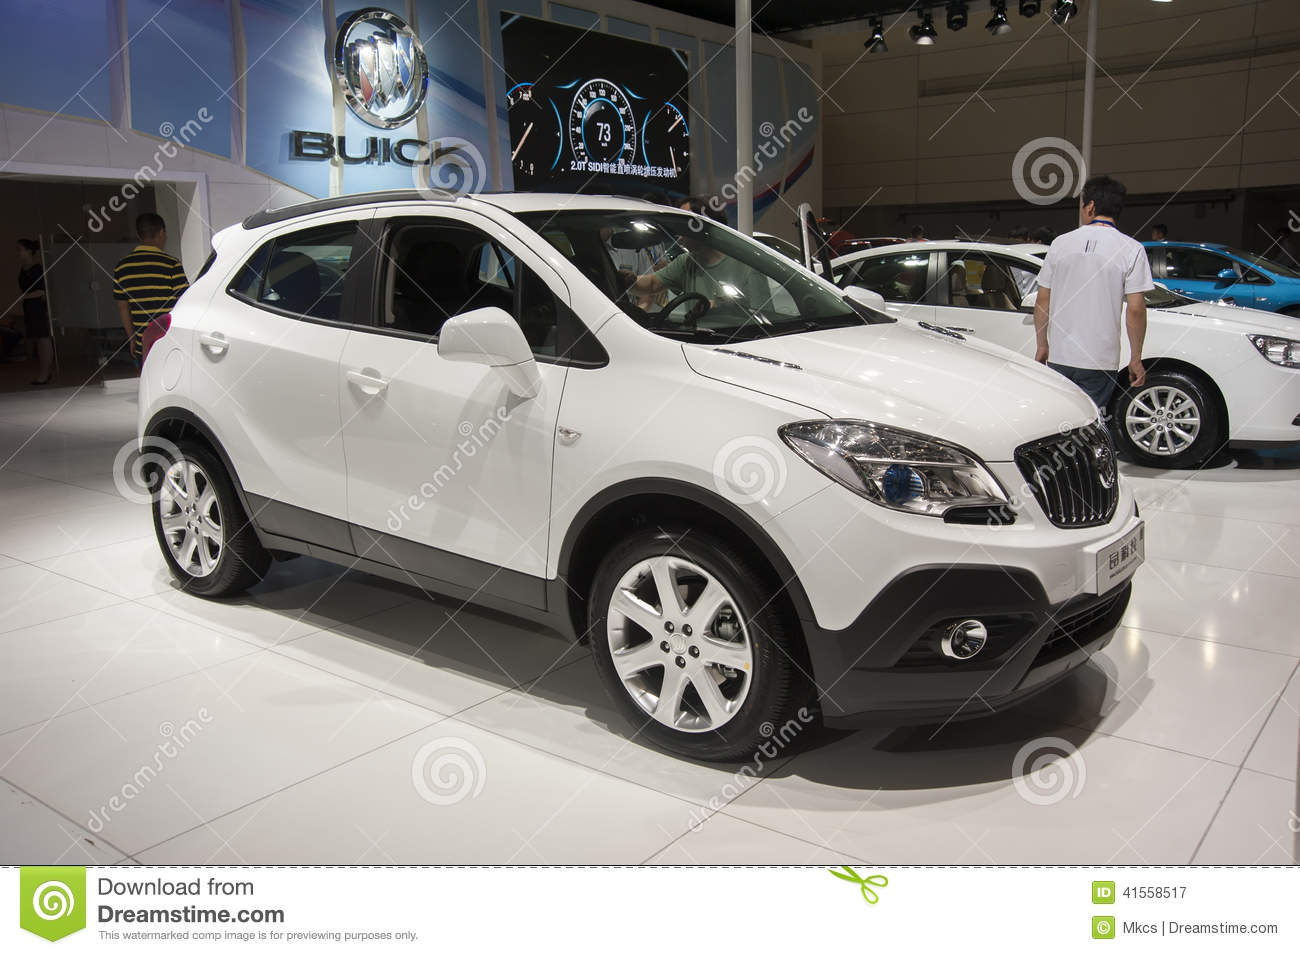front_view: (210, 59, 388, 156)
headlight: (209, 59, 314, 94)
side_glass: (37, 10, 147, 50)
